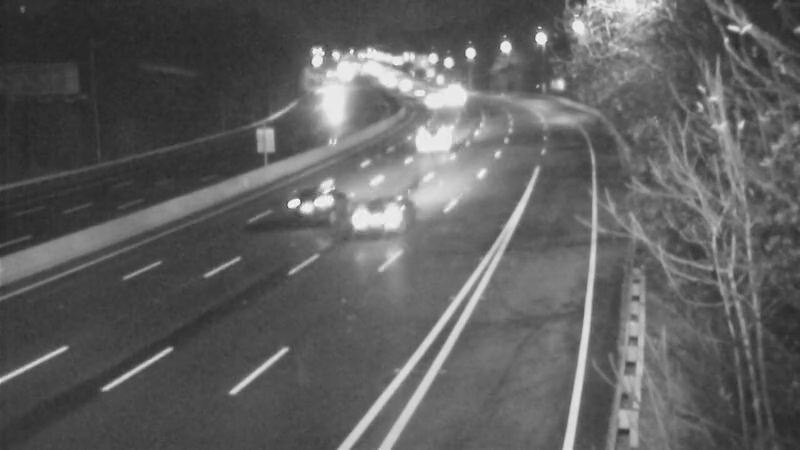vehicle: (264, 166, 344, 246), (337, 172, 417, 252), (409, 78, 459, 128), (404, 107, 454, 157)
